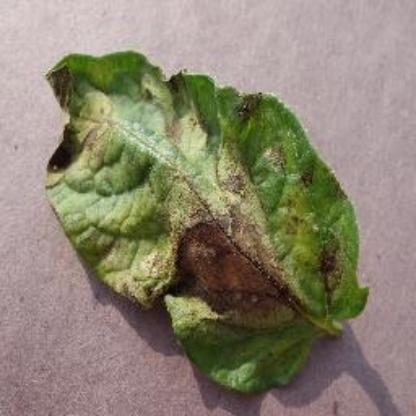Late-Blight: (35, 43, 377, 393)
